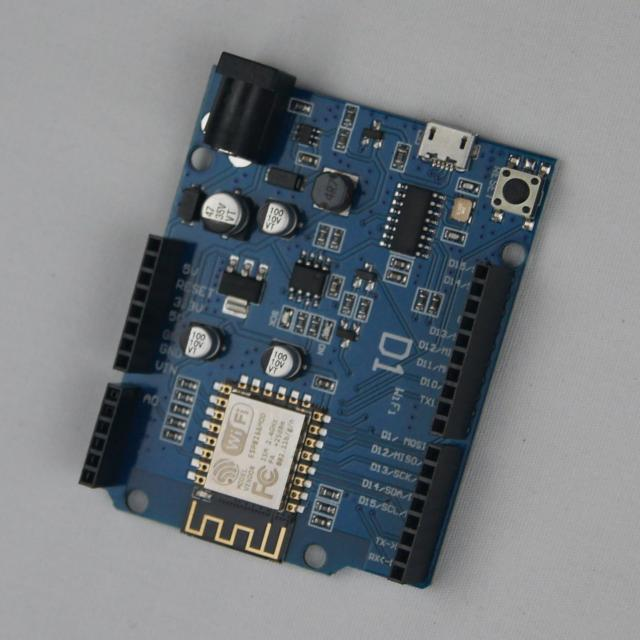Arduino Uno WiFi Shield: (81, 54, 556, 588)
